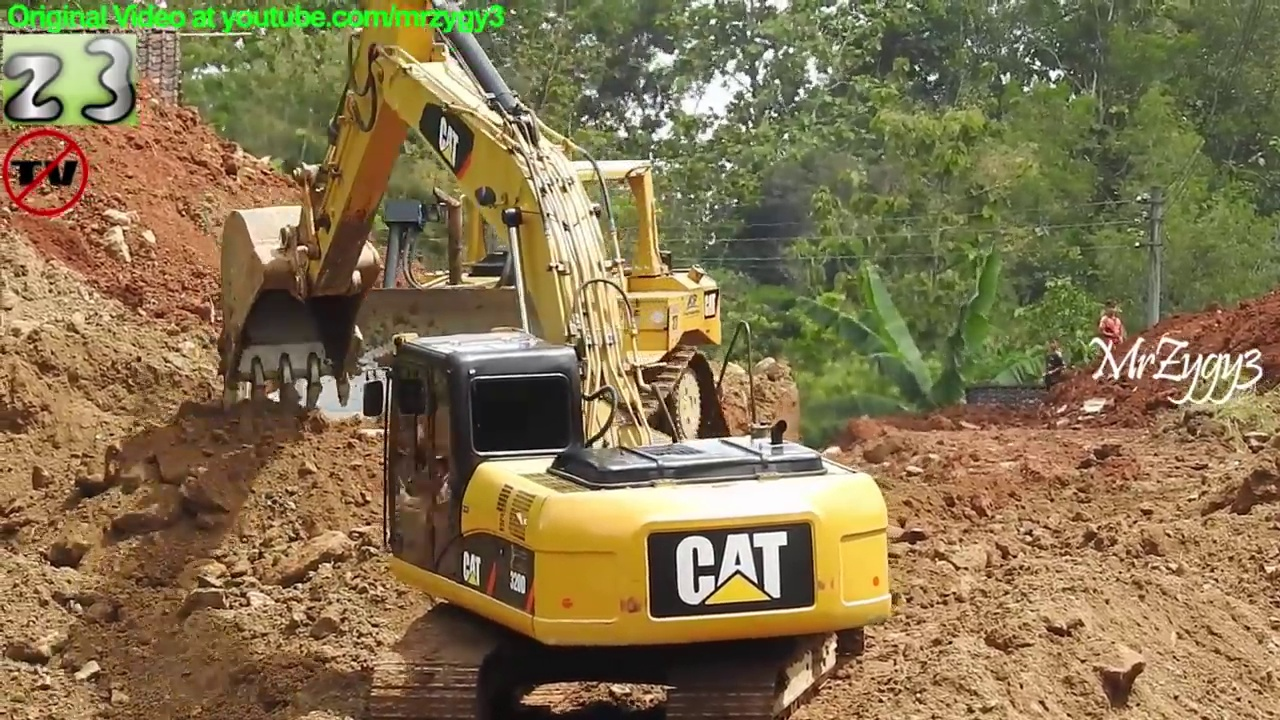excavator: (219, 16, 894, 720)
person: (1039, 333, 1069, 394), (1096, 296, 1126, 353)
